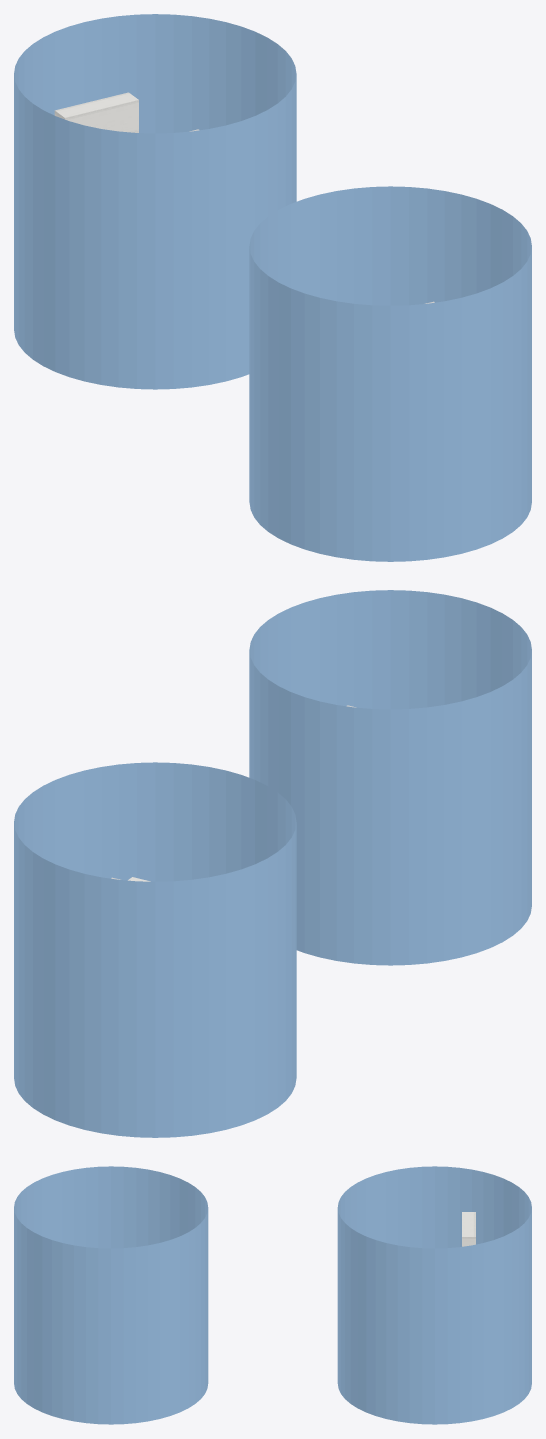
The model's file is house_2.glb.
The picture shows the model from 3 angles, top to bottom: view 1: azimuth 30°, elevation 25°; view 2: azimuth 150°, elevation 25°; view 3: azimuth 270°, elevation 25°; orthographic projection. The views are drawn at different scales.
Visible parts, largest first — view 1: house_2_lm_2, house_2_fx_1, house_2_lm_1; view 2: house_2_fx_1, house_2_lm_2; view 3: house_2_lm_2, house_2_fx_1, house_2_lm_1.
Boxes of the visible parts, x1,y1,x2,y2 form: house_2_lm_2: (249,186,531,561); house_2_fx_1: (14,14,296,389); house_2_lm_1: (54,92,138,132); house_2_fx_1: (14,762,296,1137); house_2_lm_2: (249,590,531,965); house_2_lm_2: (14,1166,208,1424); house_2_fx_1: (337,1166,531,1424); house_2_lm_1: (462,1212,475,1246).
Size of the model in its own units: 18 by 18 by 48.
Materials: 44 (36 with a texture image).
